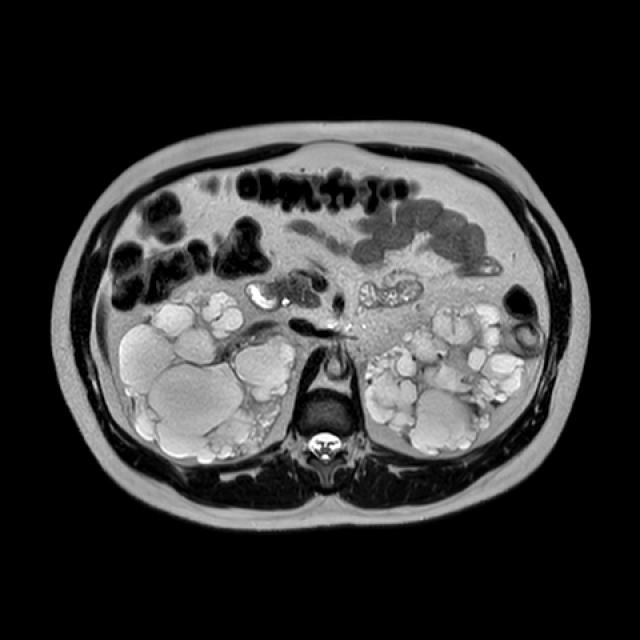sag: (119, 288, 299, 461)
sol: (363, 303, 542, 455)
